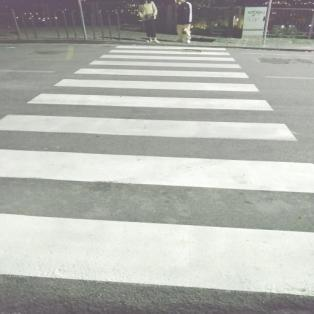Paso de Cebra: (0, 147, 314, 309), (24, 76, 280, 113), (106, 46, 234, 56)
